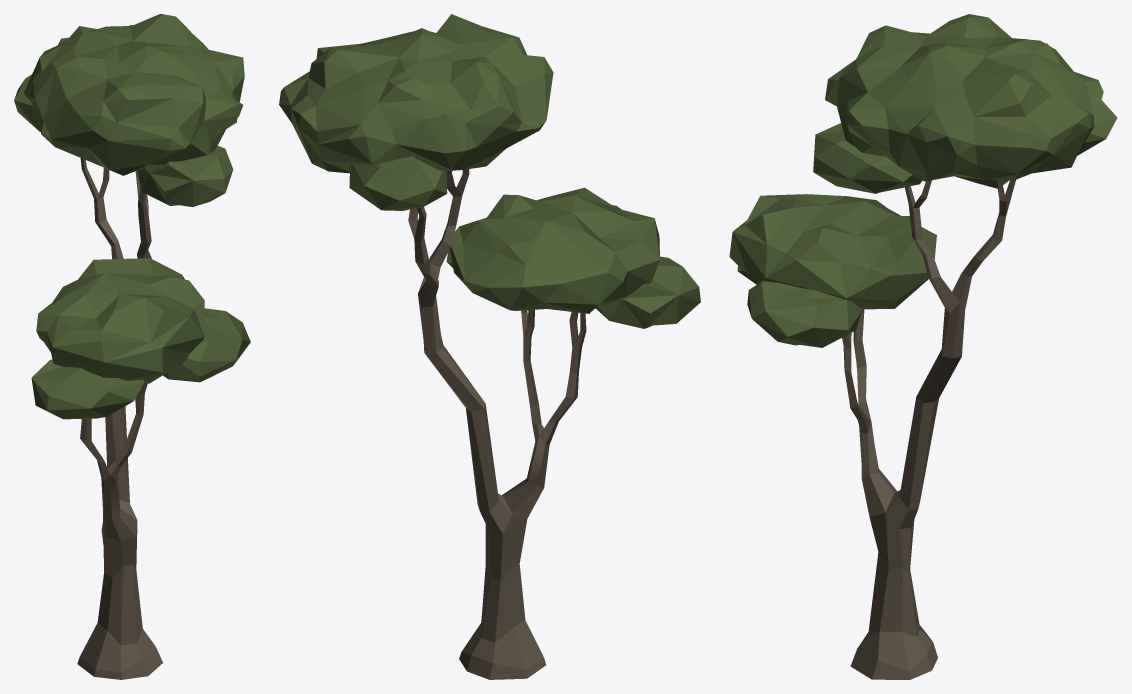
File: Tree_38.gltf
3 views of the same model, side by side, from view 1: azimuth 30°, elevation 25°; view 2: azimuth 150°, elevation 25°; view 3: azimuth 270°, elevation 25° (orthographic). The views are drawn at different scales.
Parts seen in each view (by area): view 1: Tree_38; view 2: Tree_38; view 3: Tree_38.
Boxes of the visible parts, x1,y1,x2,y2 form: Tree_38: (14,14,250,679); Tree_38: (279,14,700,679); Tree_38: (729,14,1117,679).
Size of the model in its own units: 0.5293 by 1.08 by 0.5889.
1 material, 1 textured.
